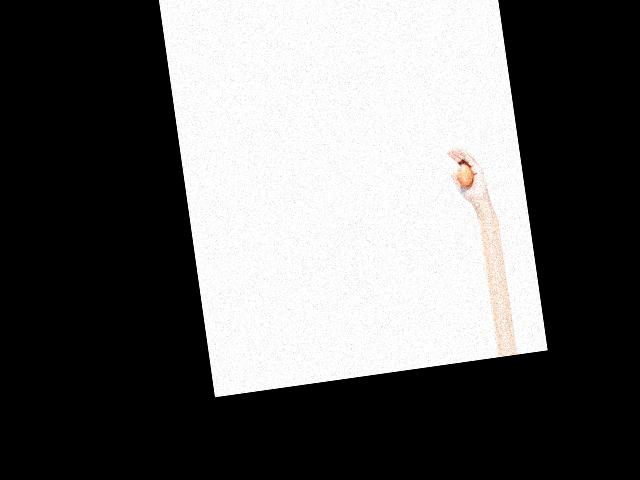egg: (455, 163, 474, 186)
